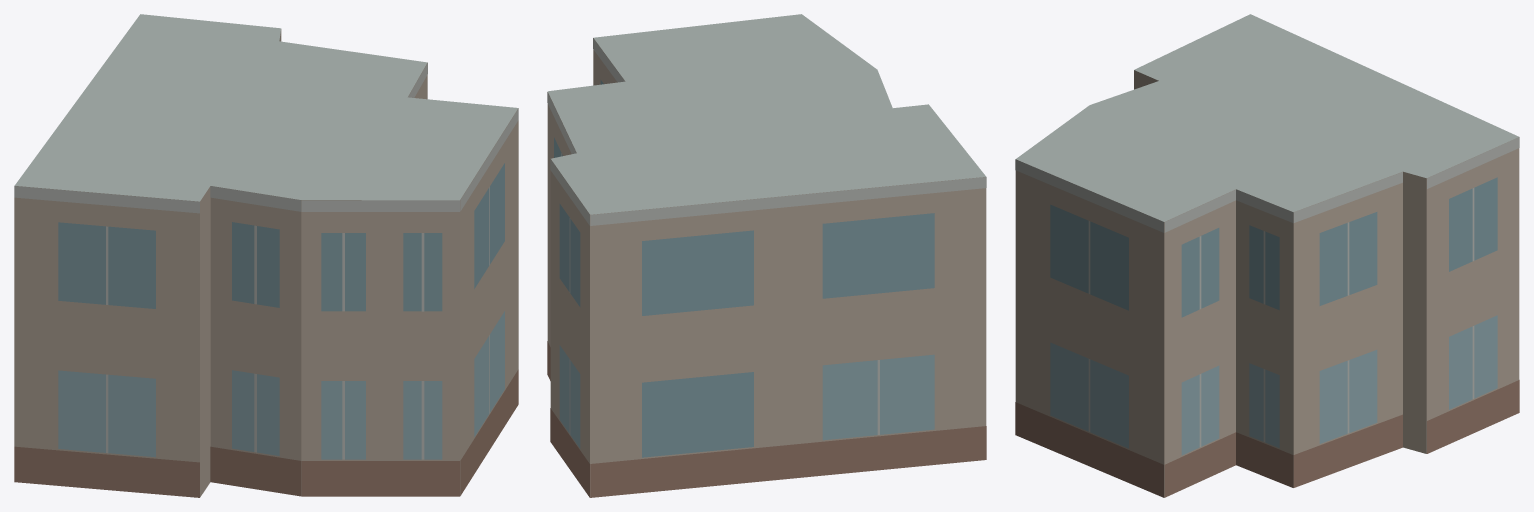
The model's file is survey-upis-32831302.glb.
The picture shows the model from 3 angles, left to right: view 1: azimuth 30°, elevation 25°; view 2: azimuth 150°, elevation 25°; view 3: azimuth 270°, elevation 25°; orthographic projection. The views are drawn at different scales.
Parts seen in each view (by area): view 1: survey-upis-32831302.tmp; view 2: survey-upis-32831302.tmp; view 3: survey-upis-32831302.tmp.
Part boxes in pixels (box(x1,y1,x2,y2)): survey-upis-32831302.tmp: box(14, 14, 518, 497); survey-upis-32831302.tmp: box(547, 14, 986, 497); survey-upis-32831302.tmp: box(1015, 14, 1519, 497).
Bounding box in the file's own units: 9.87 × 6.1 × 10.11.
